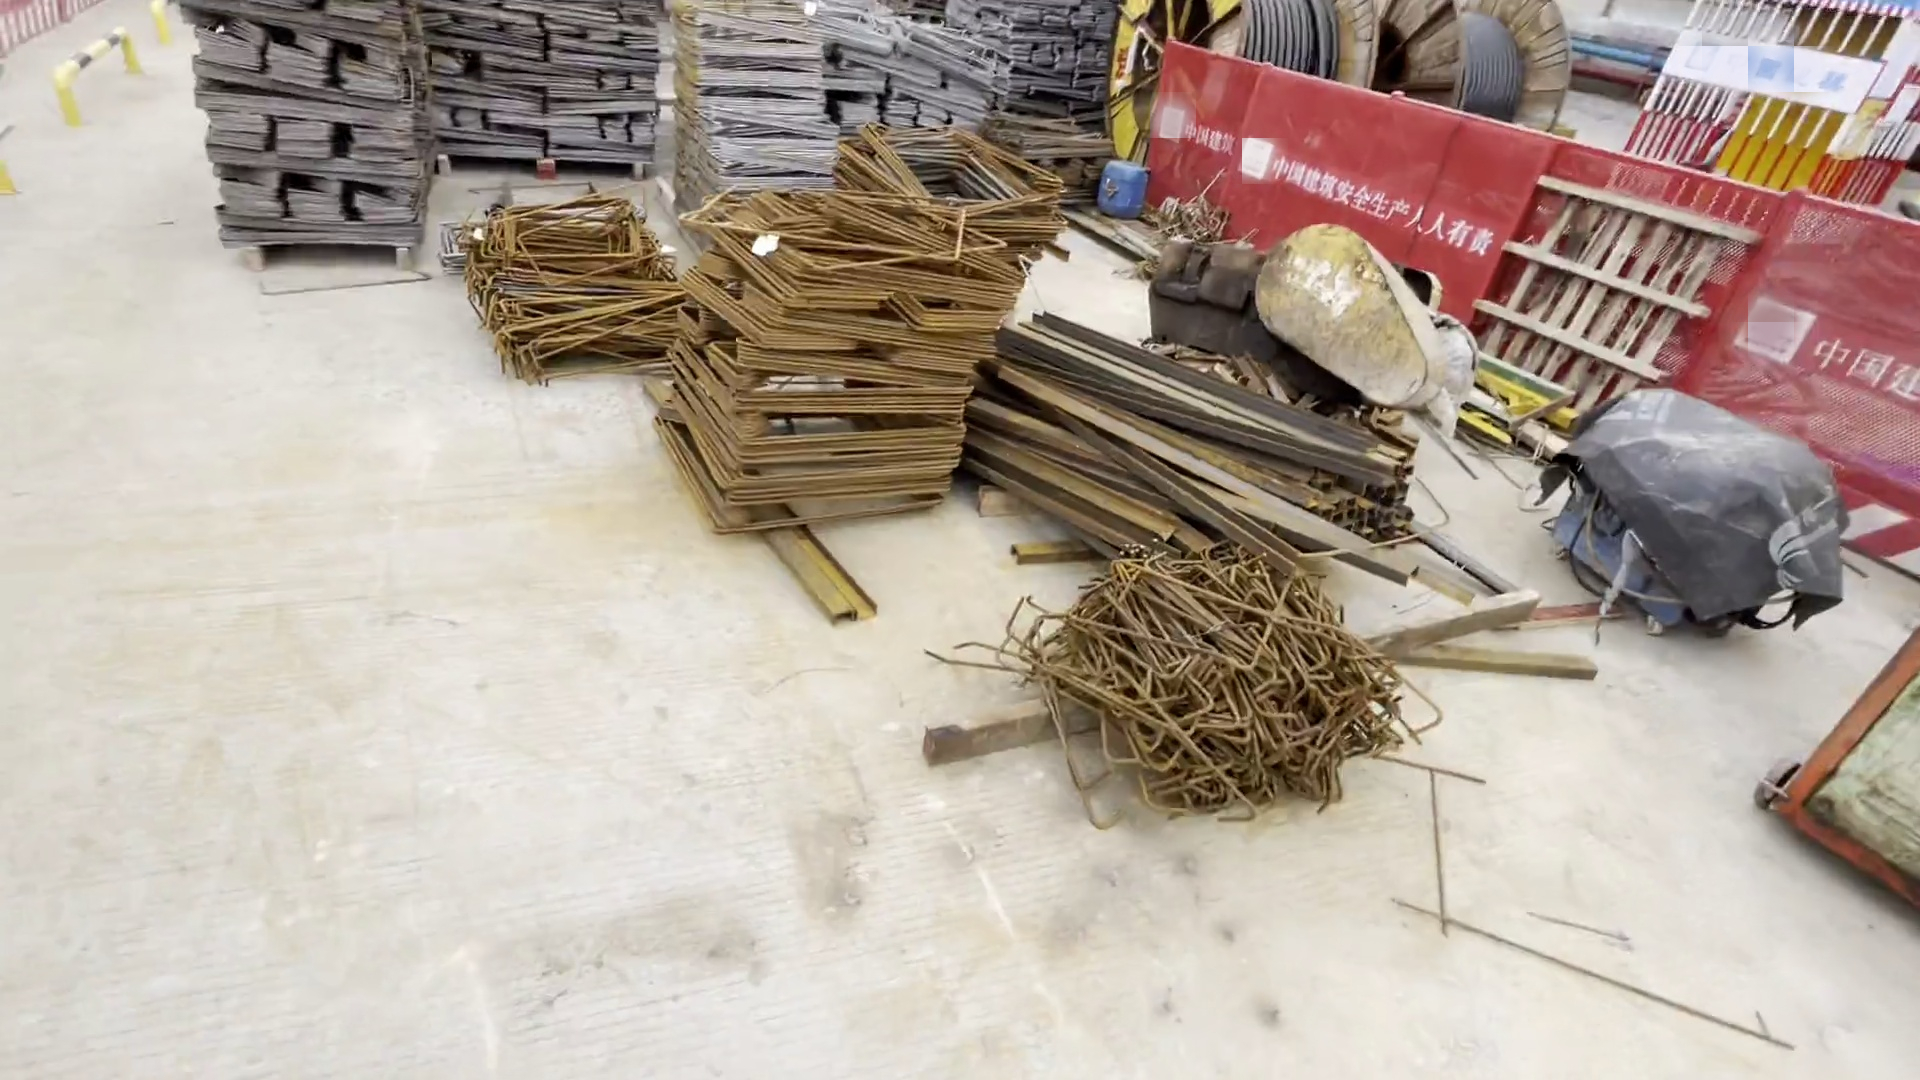fence: (1131, 55, 1514, 323), (1669, 183, 1920, 556)
